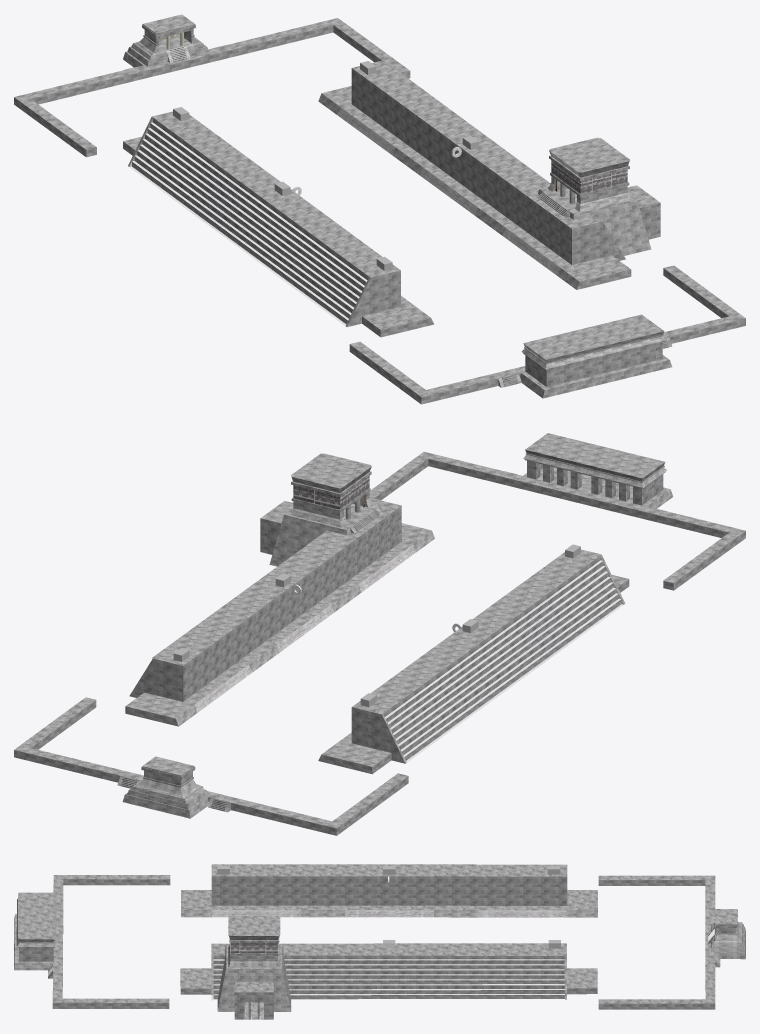
The model's file is productionCourt1.glb.
The picture shows the model from 3 angles, top to bottom: view 1: azimuth 30°, elevation 25°; view 2: azimuth 150°, elevation 25°; view 3: azimuth 270°, elevation 25°; orthographic projection. The views are drawn at different scales.
Visible parts, largest first — view 1: SketchUp.019, SketchUp.001, SketchUp.047, SketchUp, SketchUp.050, SketchUp.046, SketchUp.204, SketchUp.202, SketchUp.051, SketchUp.246, SketchUp.002, SketchUp.009 (+12 smaller); view 2: SketchUp.019, SketchUp.001, SketchUp.047, SketchUp, SketchUp.050, SketchUp.204, SketchUp.051, SketchUp.046, SketchUp.246, SketchUp.009, SketchUp.007, SketchUp.008 (+11 smaller); view 3: SketchUp.001, SketchUp.019, SketchUp.020, SketchUp.047, SketchUp.046, SketchUp.204, SketchUp.051, SketchUp.038, SketchUp.021, SketchUp.022, SketchUp.023, SketchUp.028 (+21 smaller).
Part boxes in pixels (x1,y1,x2,y2): SketchUp.019: [318, 60, 631, 289]; SketchUp.001: [123, 111, 434, 337]; SketchUp.047: [349, 265, 745, 404]; SketchUp: [129, 122, 367, 325]; SketchUp.050: [14, 18, 409, 149]; SketchUp.046: [539, 187, 660, 255]; SketchUp.204: [523, 314, 664, 362]; SketchUp.202: [523, 340, 664, 386]; SketchUp.051: [25, 20, 332, 98]; SketchUp.246: [549, 137, 629, 172]; SketchUp.002: [347, 270, 400, 326]; SketchUp.009: [132, 162, 347, 324]; SketchUp.019: [125, 498, 434, 726]; SketchUp.001: [318, 549, 629, 774]; SketchUp.047: [369, 451, 745, 590]; SketchUp: [385, 556, 623, 762]; SketchUp.050: [14, 697, 407, 835]; SketchUp.204: [525, 433, 665, 481]; SketchUp.051: [25, 748, 331, 825]; SketchUp.046: [269, 502, 380, 566]; SketchUp.246: [291, 453, 371, 488]; SketchUp.009: [404, 599, 621, 760]; SketchUp.007: [399, 588, 616, 749]; SketchUp.008: [402, 594, 618, 754]; SketchUp.001: [181, 864, 597, 917]; SketchUp.019: [180, 943, 597, 999]; SketchUp.020: [213, 959, 564, 995]; SketchUp.047: [14, 875, 170, 1008]; SketchUp.046: [217, 944, 290, 1011]; SketchUp.204: [18, 892, 54, 942]; SketchUp.051: [705, 880, 745, 999]; SketchUp.038: [213, 960, 564, 964]; SketchUp.021: [213, 965, 564, 969]; SketchUp.022: [213, 970, 564, 974]; SketchUp.023: [213, 975, 564, 979]; SketchUp.028: [213, 955, 564, 959].
Size of what is drawn, in the model's own units: 75.99 by 18 by 169.
Materials: 30 (22 with a texture image).
